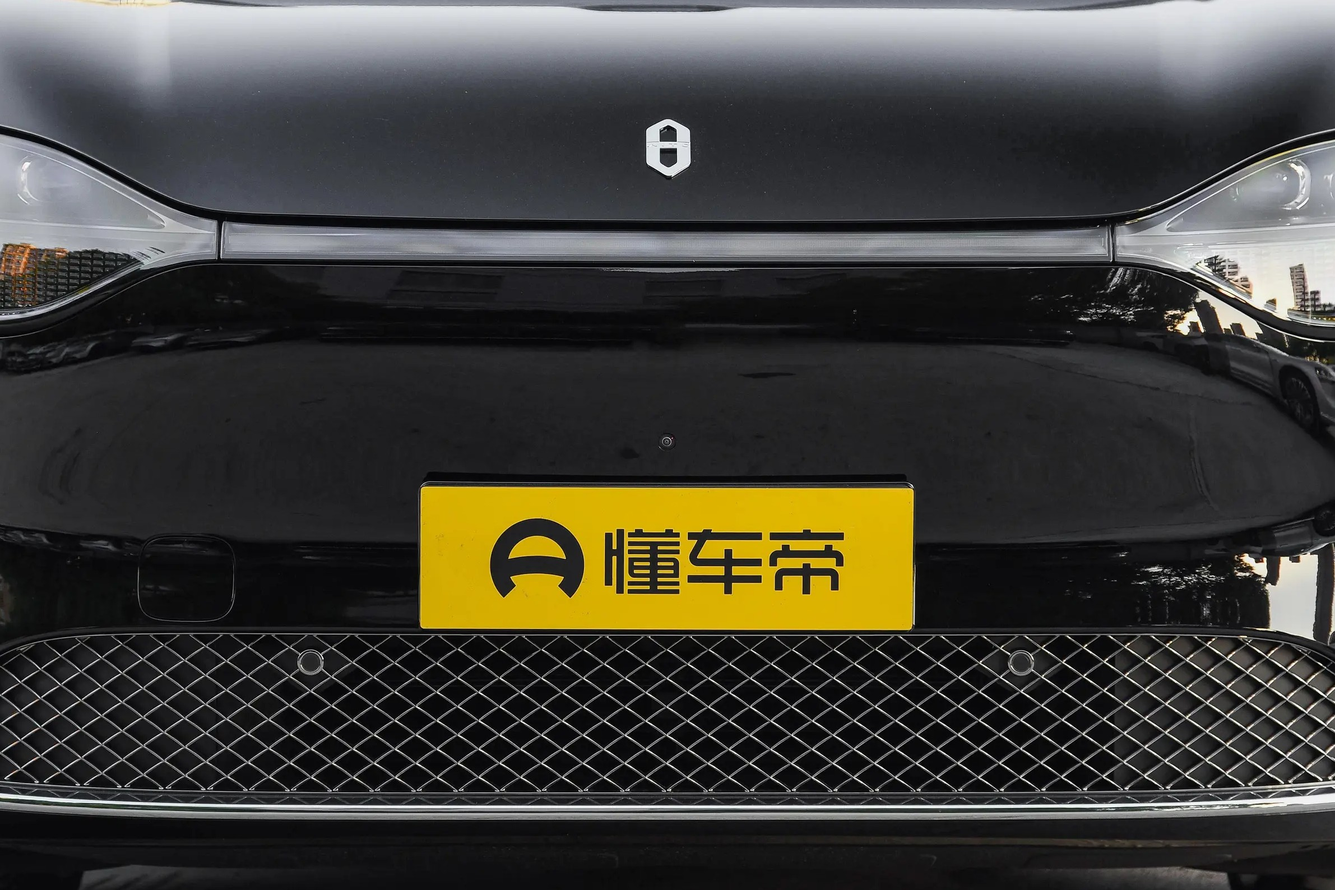AITO: (646, 119, 690, 177)
